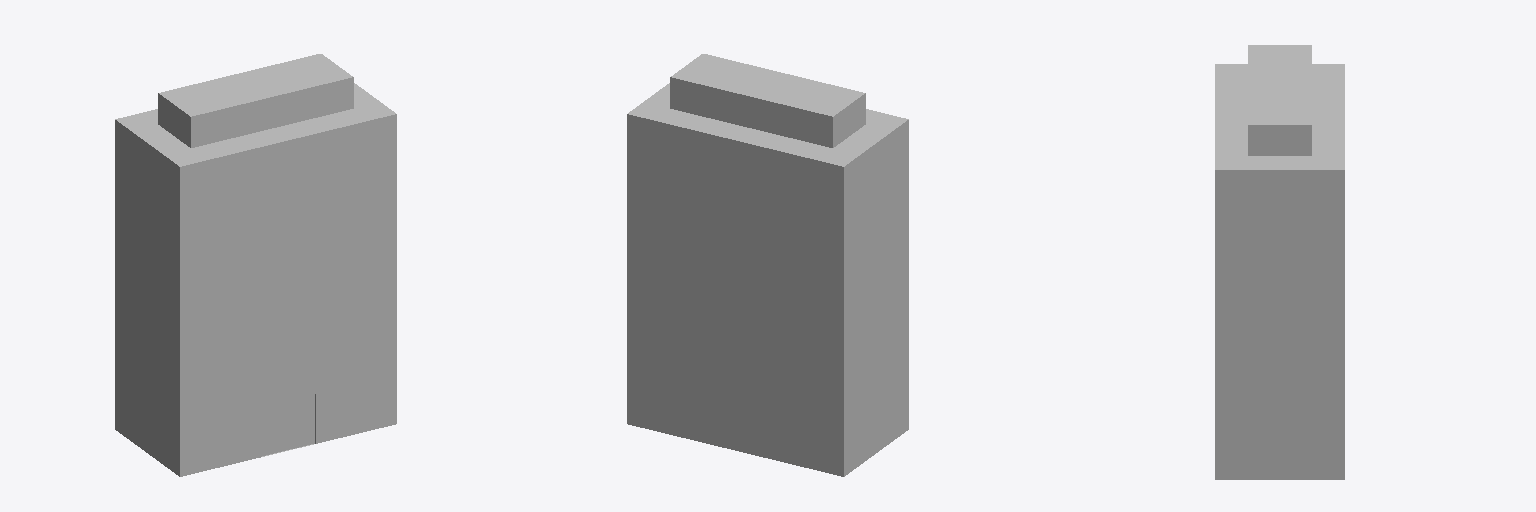
The model's file is flat.obj.
3 renders of one model, left to right at view 1: azimuth 30°, elevation 25°; view 2: azimuth 150°, elevation 25°; view 3: azimuth 270°, elevation 25°, orthographic.
Parts seen in each view (by area): view 1: Cube_Cube.001; view 2: Cube_Cube.001; view 3: Cube_Cube.001.
Boxes of the visible parts, box(x1,y1,x2,y2) form: Cube_Cube.001: box(115, 54, 396, 476); Cube_Cube.001: box(627, 54, 908, 476); Cube_Cube.001: box(1215, 45, 1344, 479).
Bounding box in the file's own units: 17.58 × 26.46 × 9.12.